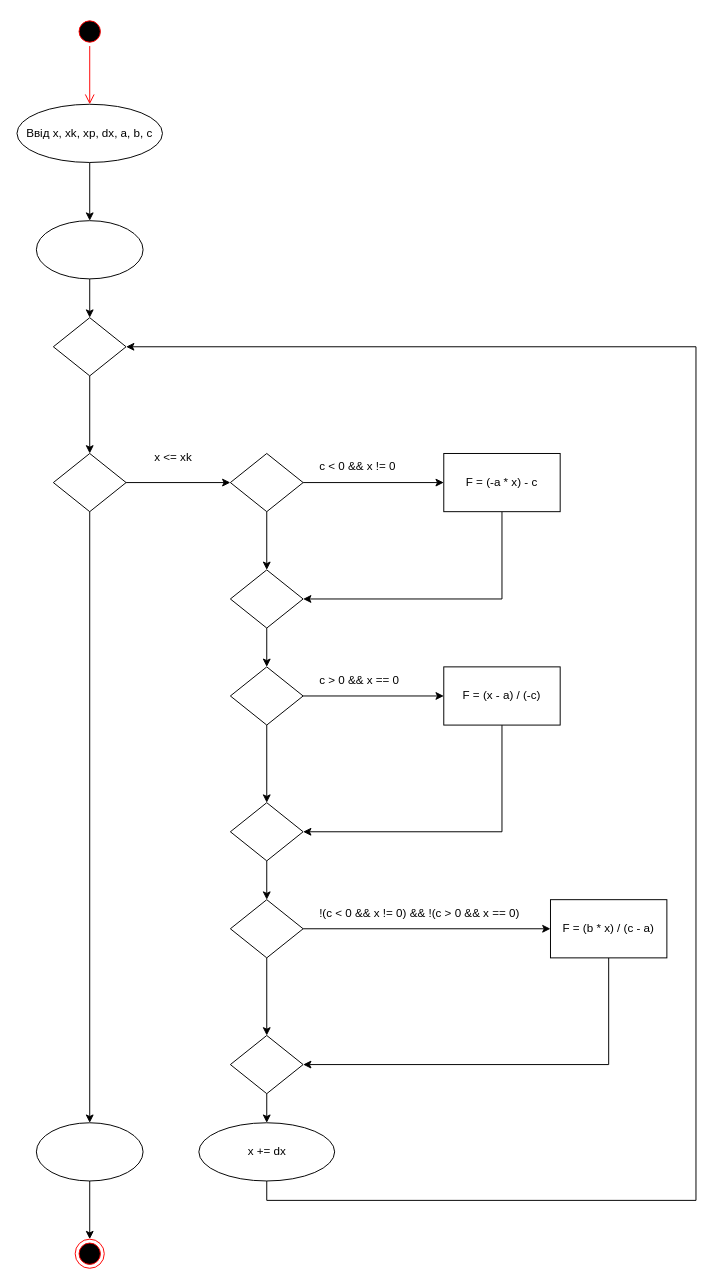
Some shapes in this 721 by 1285 pixel diagram are drawn without their labels. The centre of each missing label's shape, as x and y in pixels:
x = xp: the point at 89,249
Вивід x | F: the point at 89,1151
